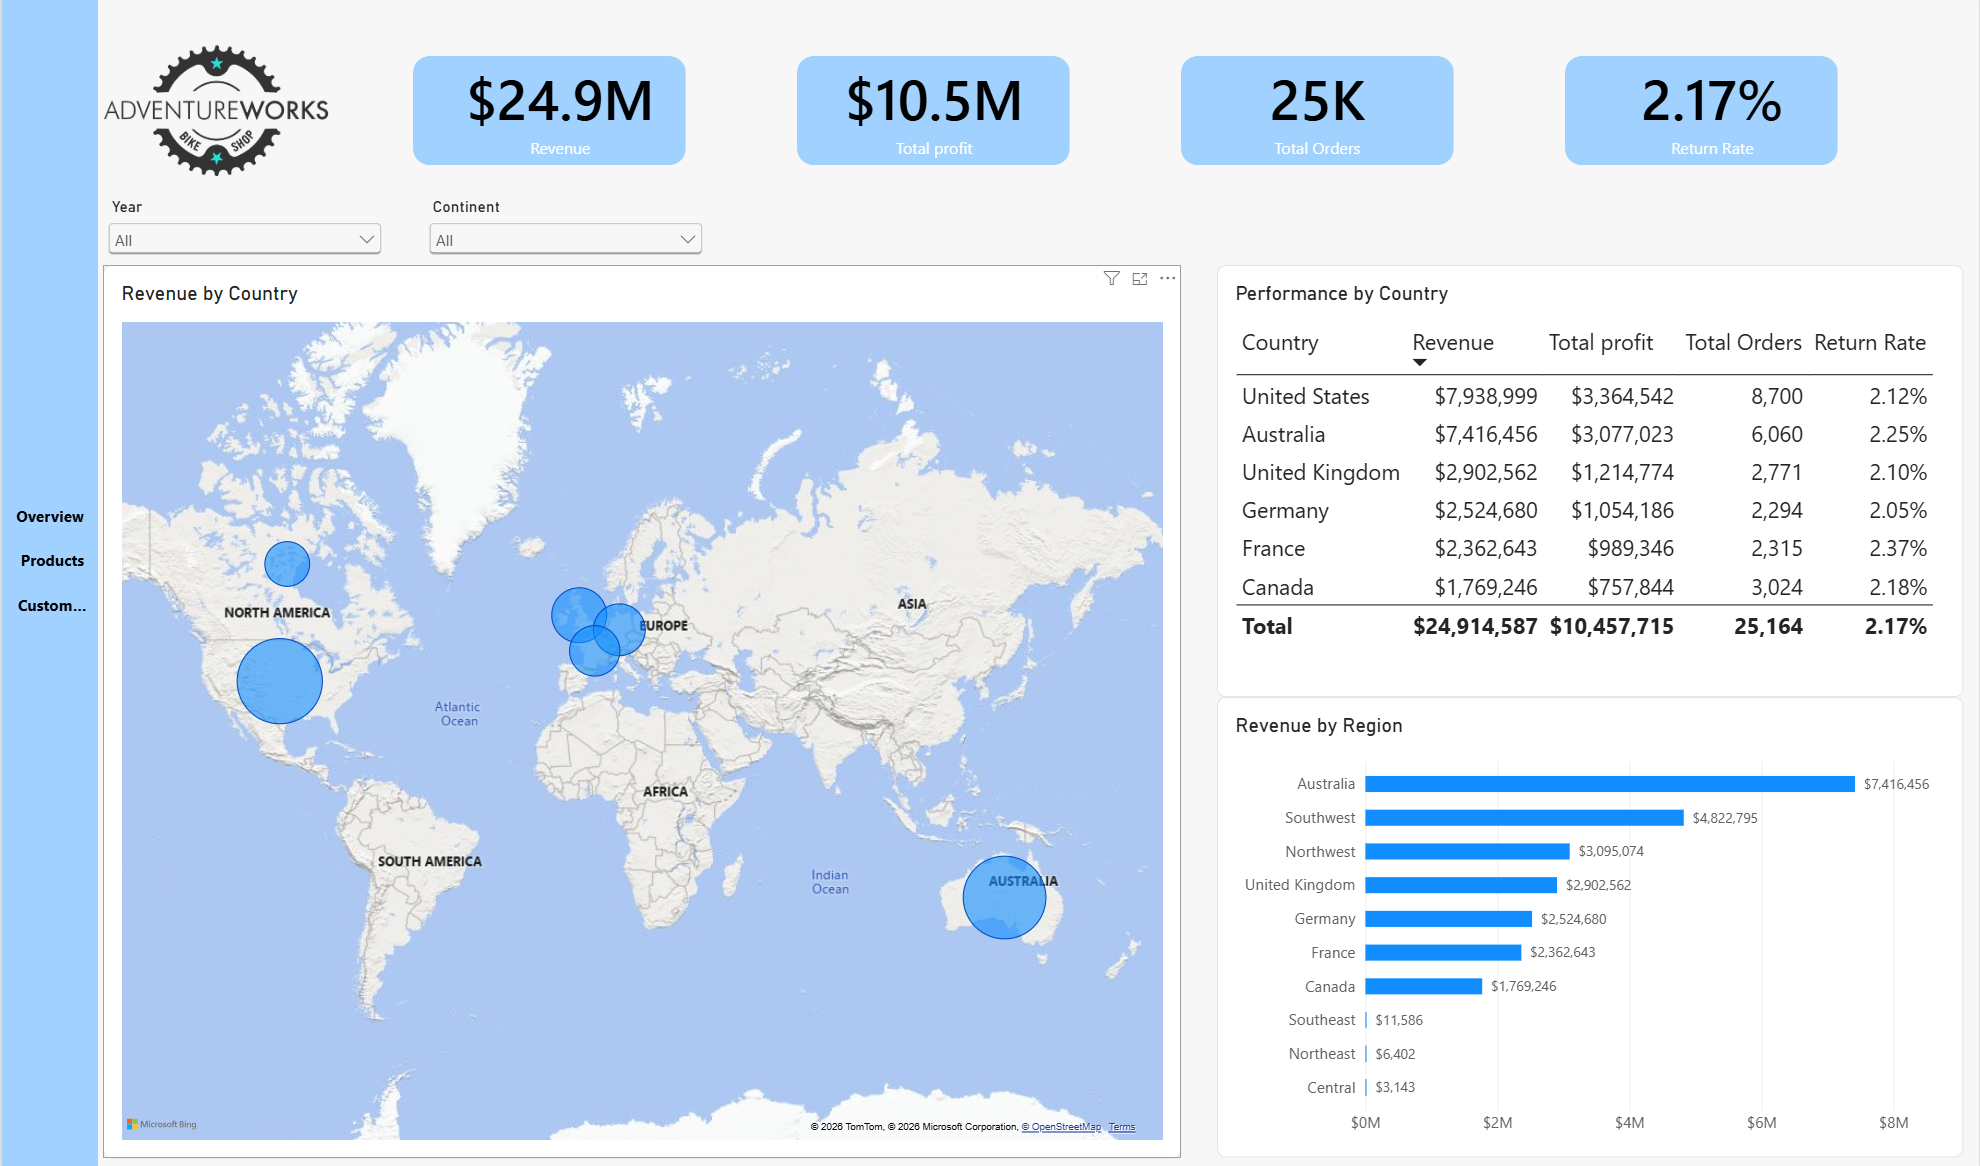

Layout of this report page (visuals, bound fields, positions):
{"tool":"powerbi","page":{"name":"Map","canvas":[1812,1074],"ordinal":1},"visuals":[{"type":"actionButton","box":[0,459.8,88.4,39.5],"z":0},{"type":"actionButton","box":[0,509.7,88.4,39.5],"z":1000},{"type":"shape","box":[0,0,88.4,1079.7],"z":2000},{"type":"actionButton","box":[0,498,92.5,40.5],"z":3000},{"type":"actionButton","box":[0,458.5,88.4,39.5],"z":4000},{"type":"actionButton","box":[0,539.5,92.5,39.5],"z":5000},{"type":"shape","box":[377.1,55.2,250,100],"z":6000},{"type":"shape","box":[728.8,55.2,250,100],"z":7000},{"type":"shape","box":[1080.6,55.2,250,100],"z":8000},{"type":"shape","box":[1432.3,55.2,250,100],"z":9000},{"type":"cardVisual","fields":{"Data":["Table.Revenue"]},"box":[386.9,55.1,250,100],"z":10000},{"type":"cardVisual","fields":{"Data":["Table.Total profit"]},"box":[729.2,55.2,250,100],"z":11000},{"type":"cardVisual","fields":{"Data":["Table.Total Orders"]},"box":[1080.2,55.2,250,100],"z":12000},{"type":"cardVisual","fields":{"Data":["Table.Return Rate"]},"box":[1442.7,55.2,250,100],"z":13000},{"type":"map","fields":{"Category":["Territory Lookup.Country"],"Size":["Table.Revenue"]},"box":[92.6,246.5,988.2,818.6],"z":14000},{"type":"tableEx","title":"Performance by Country","fields":{"Values":["Territory Lookup.Country","Table.Revenue","Table.Total profit","Table.Total Orders","Table.Return Rate"]},"box":[1113,246.5,684.4,396.3],"z":15000},{"type":"image","box":[56.5,42.4,280.4,126.1],"z":16000},{"type":"slicer","fields":{"Values":["Calendar Lookup.Year"]},"box":[92.6,185.2,260,84.3],"z":17000},{"type":"slicer","fields":{"Values":["Territory Lookup.Continent"]},"box":[386.9,185.2,260,84.3],"z":18000},{"type":"clusteredBarChart","title":"Revenue by Region","fields":{"Category":["Territory Lookup.Region"],"Y":["Table.Revenue"]},"box":[1113,642.8,684.4,422.3],"z":18001}]}

Visuals, with their boxes on the page's 1812x1074 design canvas (x1, y1, x2, y2). These are canvas units, not pixel positions in the 1980x1166 screenshot, which may show the page scaled, cropped or inside an application window:
actionButton: 0 460 88 499
actionButton: 0 510 88 549
shape: 0 0 88 1080
actionButton: 0 498 92 538
actionButton: 0 458 88 498
actionButton: 0 540 92 579
shape: 377 55 627 155
shape: 729 55 979 155
shape: 1081 55 1331 155
shape: 1432 55 1682 155
cardVisual - Table.Revenue: 387 55 637 155
cardVisual - Table.Total profit: 729 55 979 155
cardVisual - Table.Total Orders: 1080 55 1330 155
cardVisual - Table.Return Rate: 1443 55 1693 155
map - Territory Lookup.Country x Table.Revenue: 93 246 1081 1065
"Performance by Country" tableEx: 1113 246 1797 643
image: 56 42 337 168
slicer - Calendar Lookup.Year: 93 185 353 270
slicer - Territory Lookup.Continent: 387 185 647 270
"Revenue by Region" clusteredBarChart: 1113 643 1797 1065
